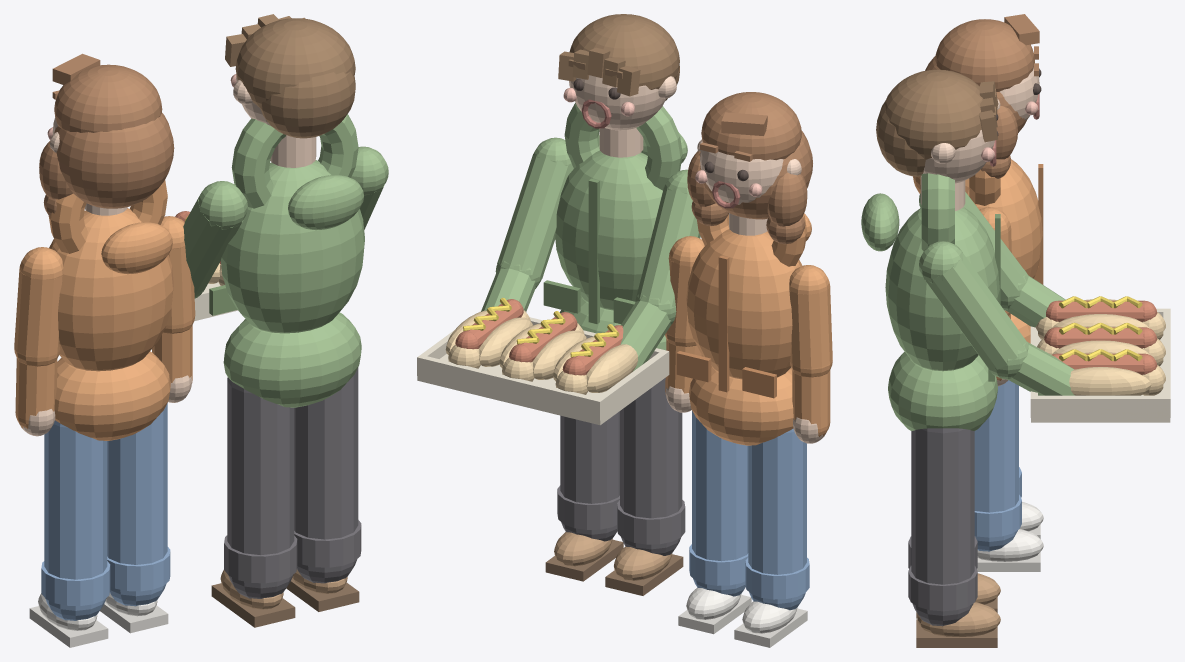
File: 47-hot-dog-customers.glb
3 renders of one model, left to right at view 1: azimuth 30°, elevation 25°; view 2: azimuth 150°, elevation 25°; view 3: azimuth 270°, elevation 25°, orthographic. The views are drawn at different scales.
Visible parts, largest first — view 1: man_torso, wom_torso, man_leg-1, man_leg1, man_hips, wom_leg-1, wom_leg1, wom_hairback, wom_hips, man_haircap, wom_hairtop, man_hoodring (+32 smaller); view 2: wom_torso, man_torso, wom_leg-1, man_leg-1, wom_leg1, wom_hips, man_armU1, man_leg1, man_haircap, wom_hairtop, tray_rimF, man_hoodring (+47 smaller); view 3: man_leg1, man_torso, man_hips, man_haircap, man_armU1, wom_hairtop, wom_leg1, wom_torso, tray_rimR, man_hoodring, man_armL1, hd2_bun1 (+30 smaller).
Boxes of the visible parts, <box> form: man_torso: <box>221,160,364,333</box>; wom_torso: <box>49,208,173,371</box>; man_leg-1: <box>227,381,294,555</box>; man_leg1: <box>294,367,358,539</box>; man_hips: <box>223,312,361,407</box>; wom_leg-1: <box>44,424,107,579</box>; wom_leg1: <box>107,403,167,564</box>; wom_hairback: <box>54,113,174,208</box>; wom_hips: <box>54,351,170,440</box>; man_haircap: <box>235,18,355,107</box>; wom_hairtop: <box>54,64,162,132</box>; man_hoodring: <box>231,114,358,208</box>; wom_torso: <box>686,229,802,379</box>; man_torso: <box>555,150,662,310</box>; wom_leg-1: <box>748,431,806,574</box>; man_leg-1: <box>620,378,682,518</box>; wom_leg1: <box>692,410,748,561</box>; wom_hips: <box>689,366,793,445</box>; man_armU1: <box>497,154,573,278</box>; man_leg1: <box>560,411,619,503</box>; man_haircap: <box>569,14,679,89</box>; wom_hairtop: <box>701,92,801,160</box>; tray_rimF: <box>417,355,603,420</box>; man_hoodring: <box>564,103,682,190</box>; man_leg1: <box>911,429,974,584</box>; man_torso: <box>885,207,999,371</box>; man_hips: <box>888,352,997,430</box>; man_haircap: <box>885,69,982,159</box>; man_armU1: <box>925,252,1027,370</box>; wom_hairtop: <box>935,19,1034,91</box>; wom_leg1: <box>974,380,1018,512</box>; wom_torso: <box>965,159,1042,278</box>; tray_rimR: <box>1031,395,1169,417</box>; man_hoodring: <box>921,173,954,251</box>; man_armL1: <box>1008,342,1074,395</box>; hd2_bun1: <box>1069,367,1151,395</box>.
Bounding box in the file's own units: 0.8149 × 1.3 × 0.6673.
